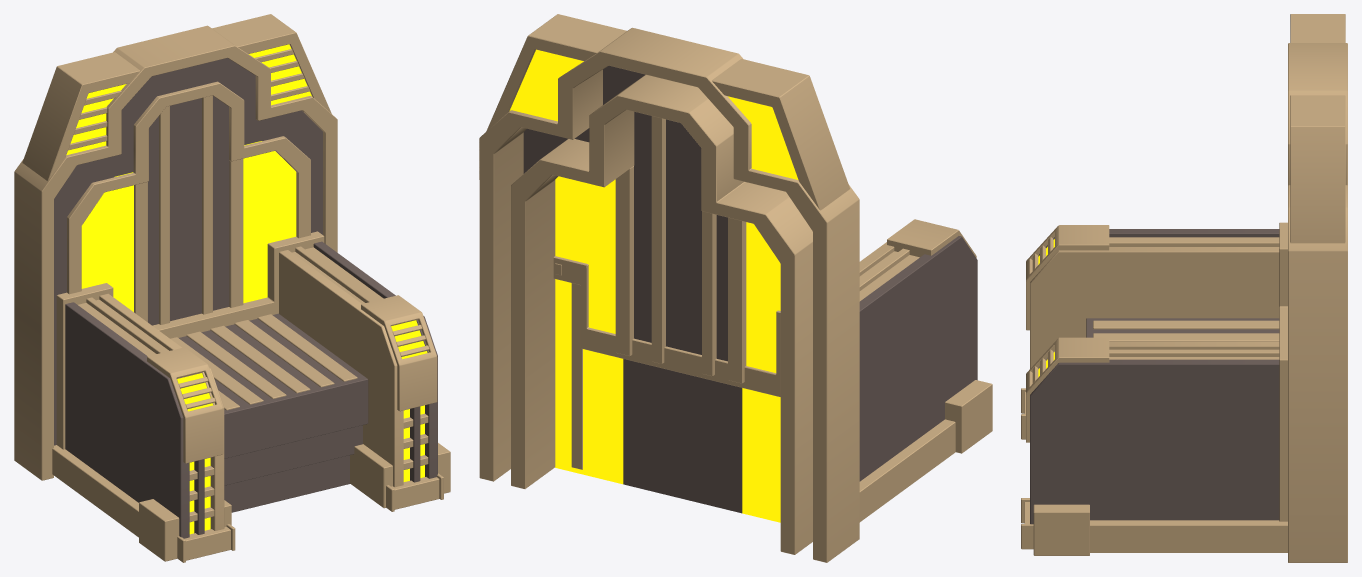
3 renders of one model, left to right at view 1: azimuth 30°, elevation 25°; view 2: azimuth 150°, elevation 25°; view 3: azimuth 270°, elevation 25°, orthographic. The views are drawn at different scales.
Parts seen in each view (by area): view 1: thronr; view 2: thronr; view 3: thronr.
Part boxes in pixels (left/top/right/bottom): thronr: left=14, top=14, right=450, bottom=562; thronr: left=479, top=14, right=992, bottom=562; thronr: left=1021, top=14, right=1347, bottom=562.
Bounding box in the file's own units: 0.5616 × 0.7039 × 0.498.
